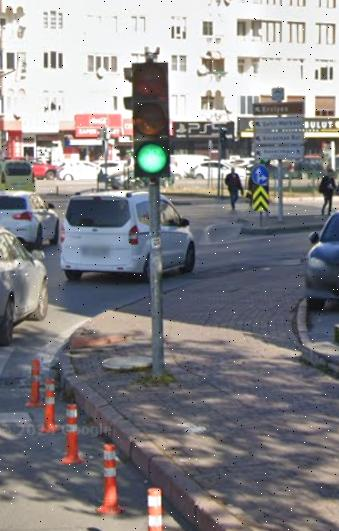greenlight: (135, 58, 171, 180)
